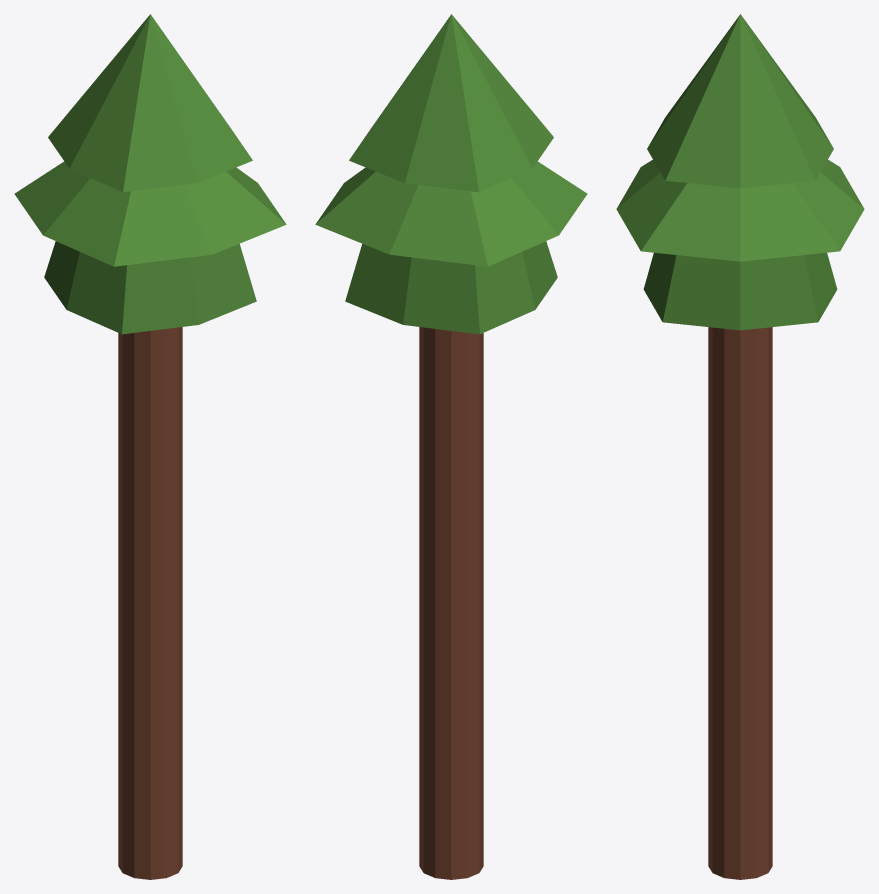
File: Tree_20_summer_vc.fbx
The picture shows the model from 3 angles, left to right: view 1: azimuth 30°, elevation 25°; view 2: azimuth 150°, elevation 25°; view 3: azimuth 270°, elevation 25°; orthographic projection.
Visible parts, largest first — view 1: Tree_20_summer_vc; view 2: Tree_20_summer_vc; view 3: Tree_20_summer_vc.
Boxes of the visible parts, bbox=[...] form: Tree_20_summer_vc: bbox=[14, 14, 286, 879]; Tree_20_summer_vc: bbox=[315, 14, 587, 879]; Tree_20_summer_vc: bbox=[616, 14, 864, 879].
Bounding box in the file's own units: 222 × 843 × 222.
